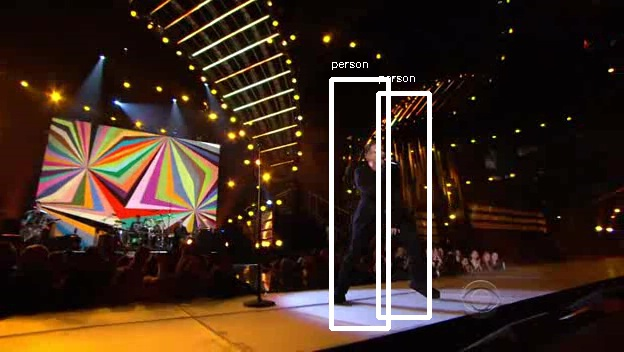person: (351, 141, 417, 243), (348, 141, 414, 243), (354, 141, 420, 243), (351, 138, 417, 240), (351, 144, 417, 246)
target_negative: (225, 57, 405, 350), (63, 78, 609, 143), (318, 35, 391, 325), (413, 287, 591, 346), (92, 223, 161, 328), (314, 295, 326, 321)
